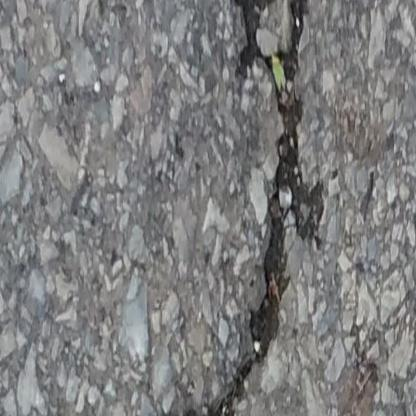Cracks: (151, 0, 335, 416)
